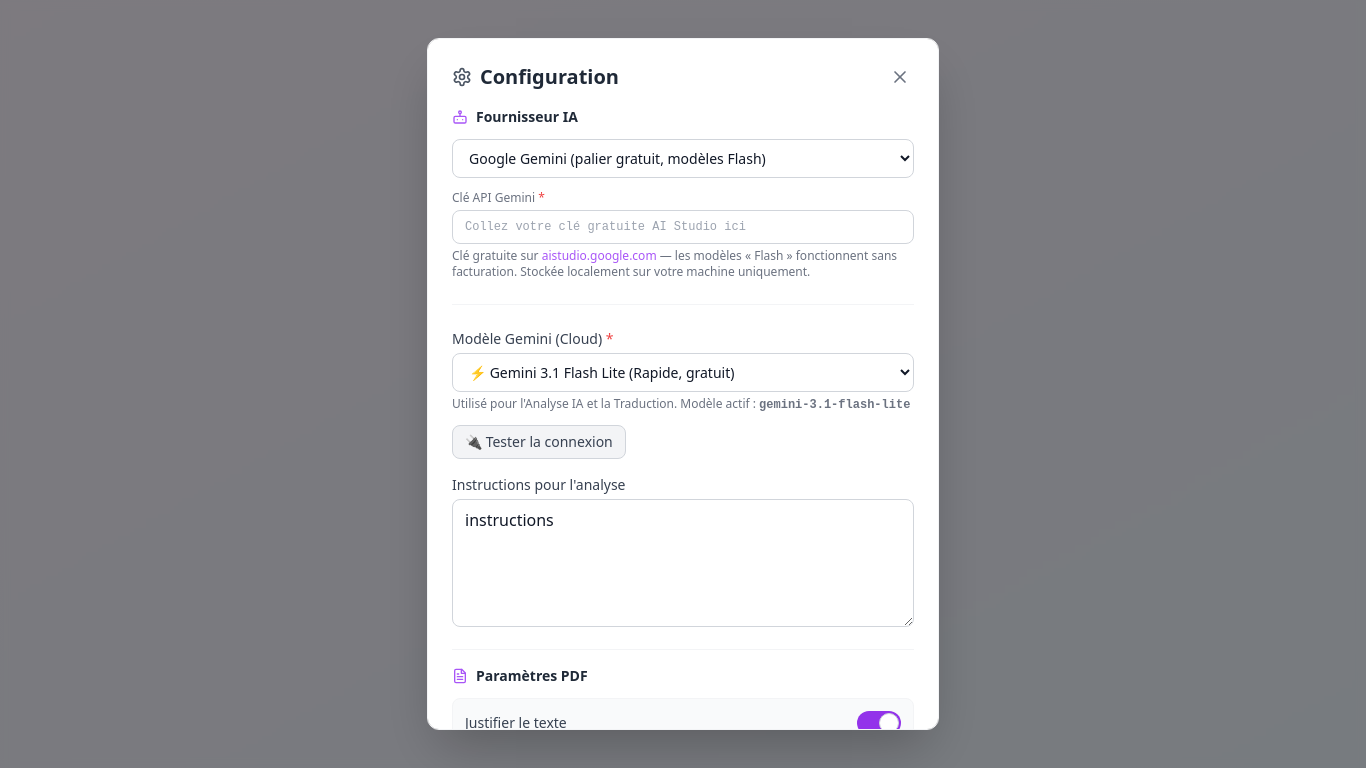
Test: SettingsModal › displays the connection test result on success
Click the button "🔌 Tester la connexion" at (539, 442), box [452,425,626,459]
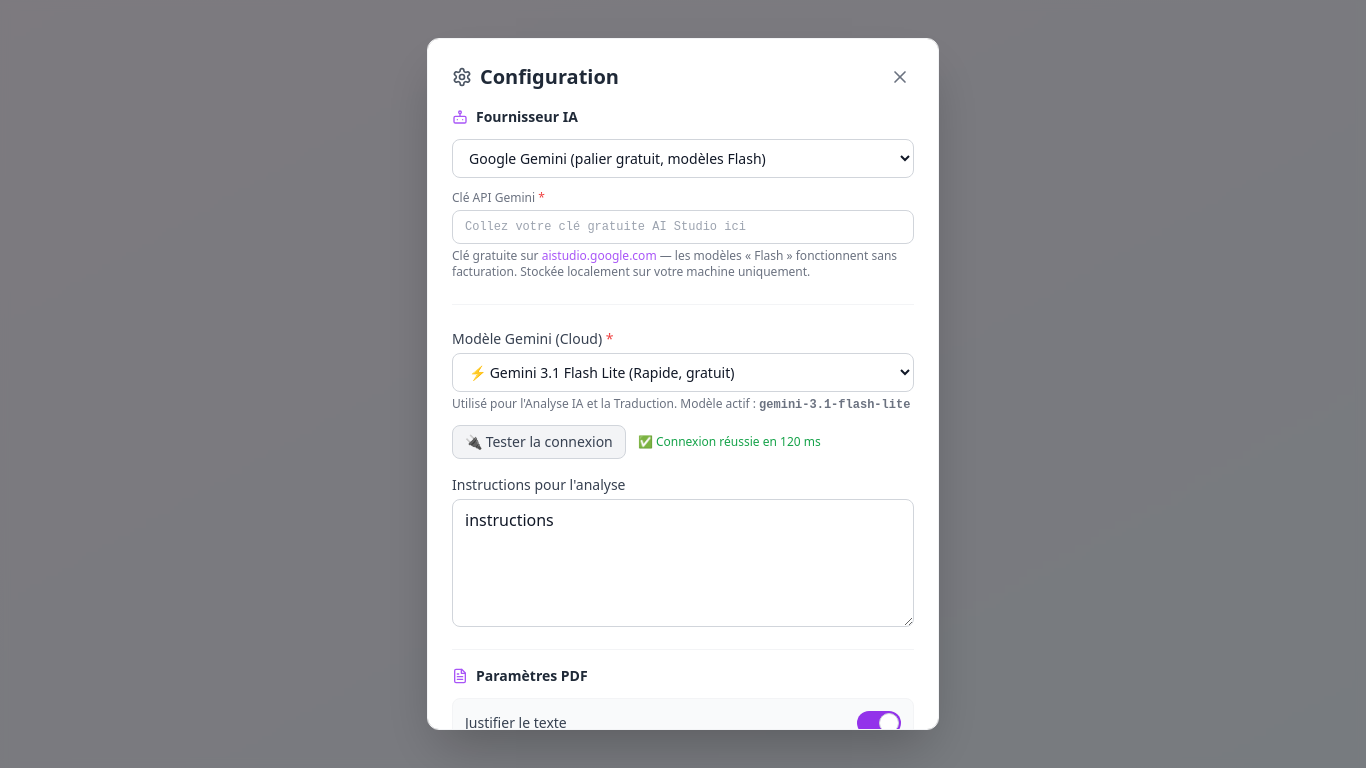
Expected: the text "✅ Connexion réussie en 120 ms" is shown, [638,434,821,450]
